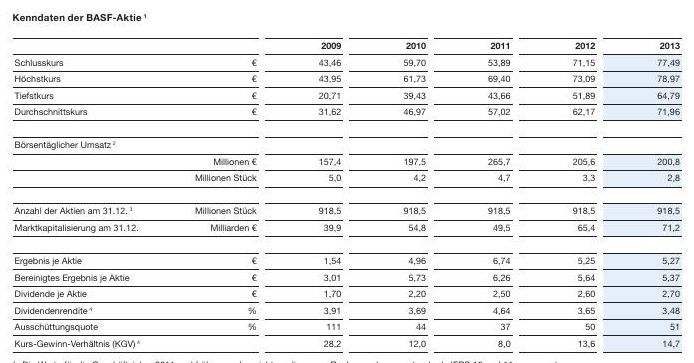table: (0, 0, 694, 363)
